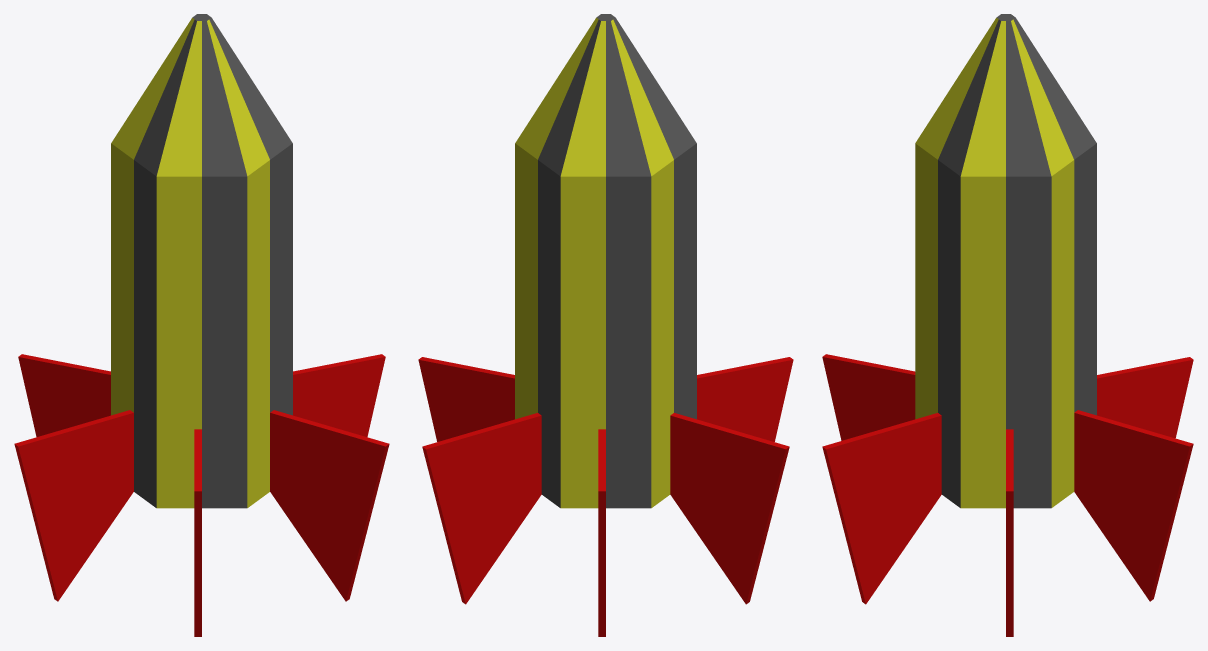
File: droneRocket.fbx
The picture shows the model from 3 angles, left to right: view 1: azimuth 30°, elevation 25°; view 2: azimuth 150°, elevation 25°; view 3: azimuth 270°, elevation 25°; orthographic projection.
Parts seen in each view (by area): view 1: Rocket; view 2: Rocket; view 3: Rocket.
Part boxes in pixels (x1,y1,x2,y2): Rocket: (14, 14, 389, 636); Rocket: (418, 14, 793, 636); Rocket: (822, 14, 1193, 636).
Bounding box in the file's own units: 30.79 × 43.96 × 26.94.
